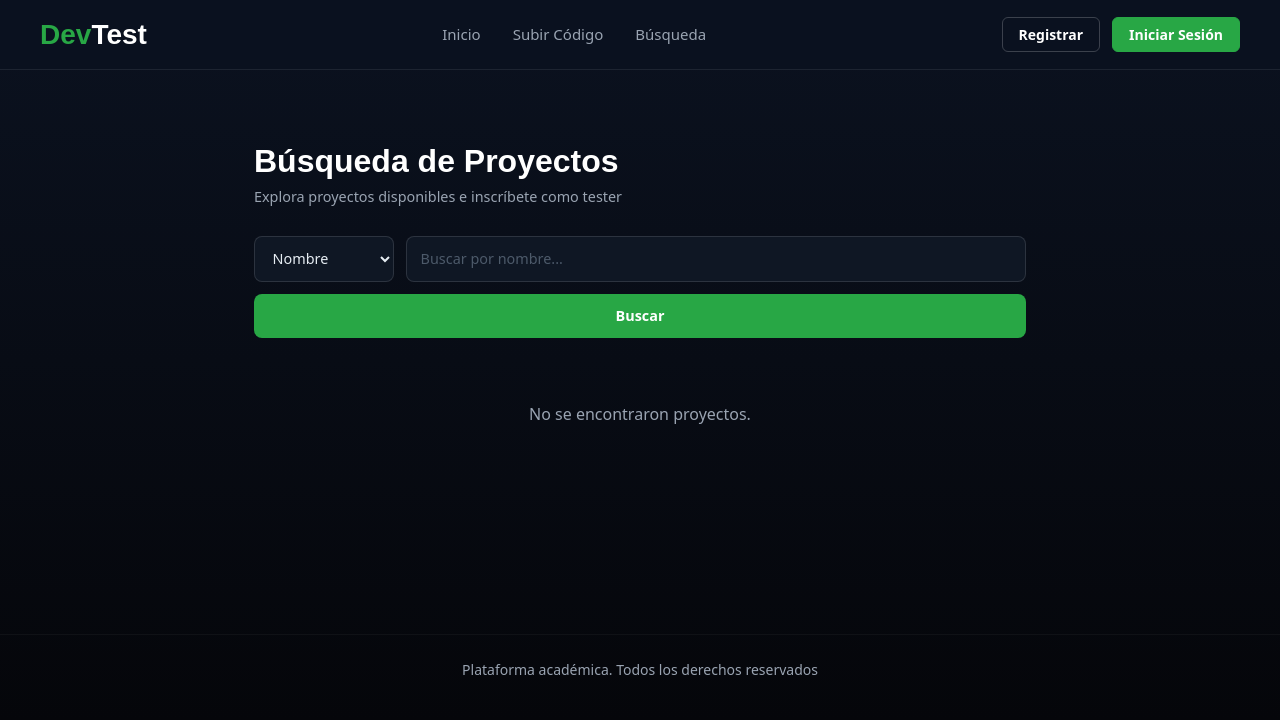
INTEGRACION: DT_10 - Consultar proyecto › FLUJO DE INTEGRACION: Busqueda a detalle › IT_CON_001 (DT_10_1): Buscar por nombre, habilitar detalles y visualizar proyecto
This screenshot has width=1280, height=720.
Select "Nombre" in the dropdown with class "busqueda-select" at [324, 259], box left=254, top=236, right=394, bottom=282
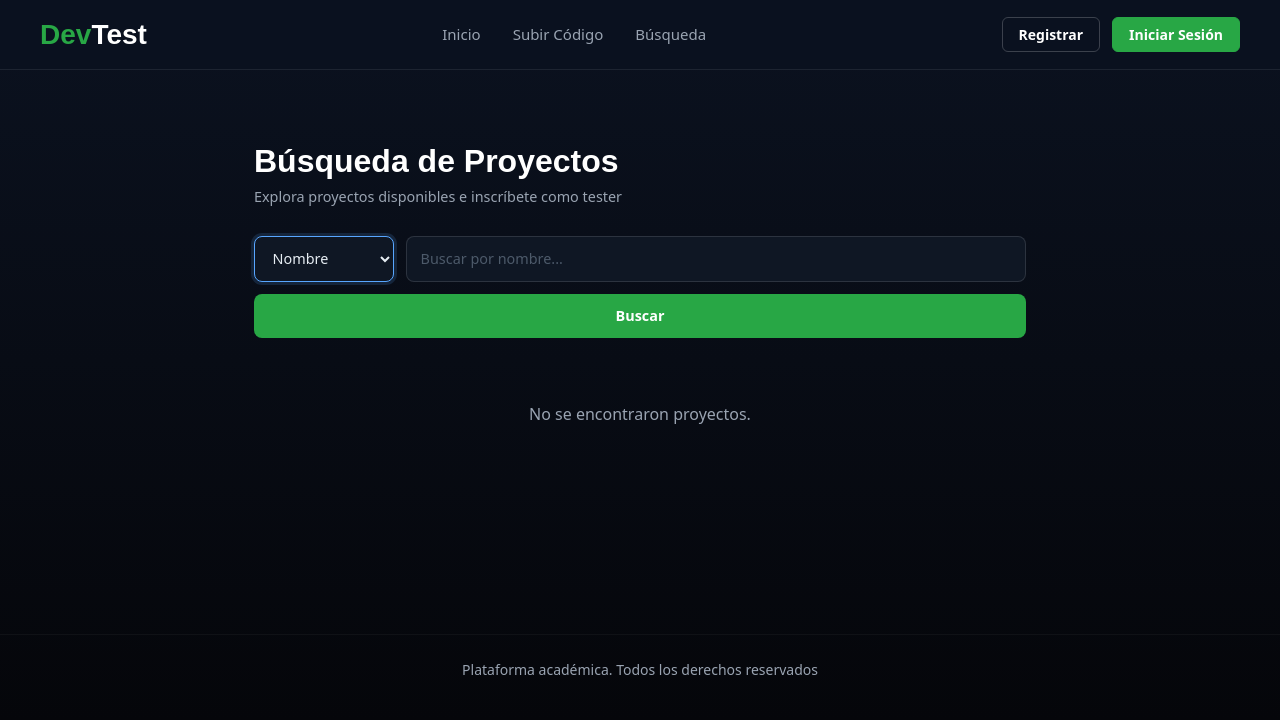
Type "Proyecto Integracion DT10" into the field with class "busqueda-input" at [716, 259], box left=406, top=236, right=1026, bottom=282
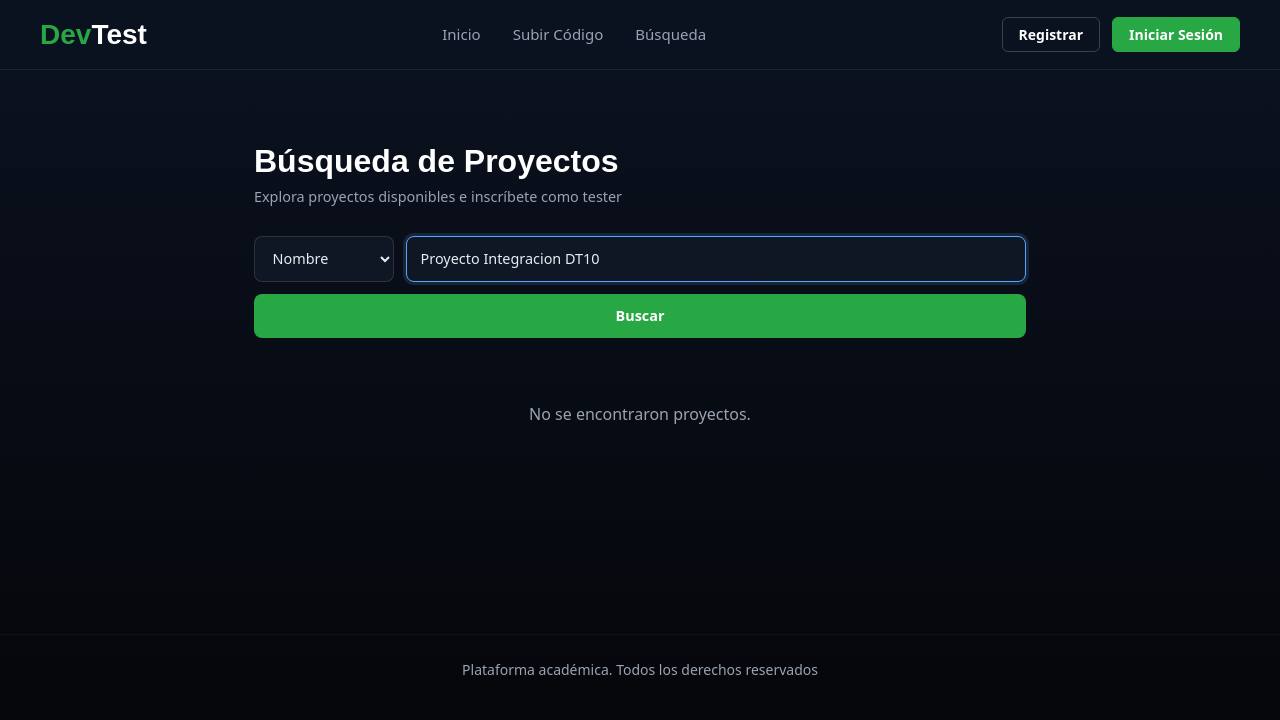
Click the button with class "busqueda-boton" at [640, 316], box left=254, top=294, right=1026, bottom=338
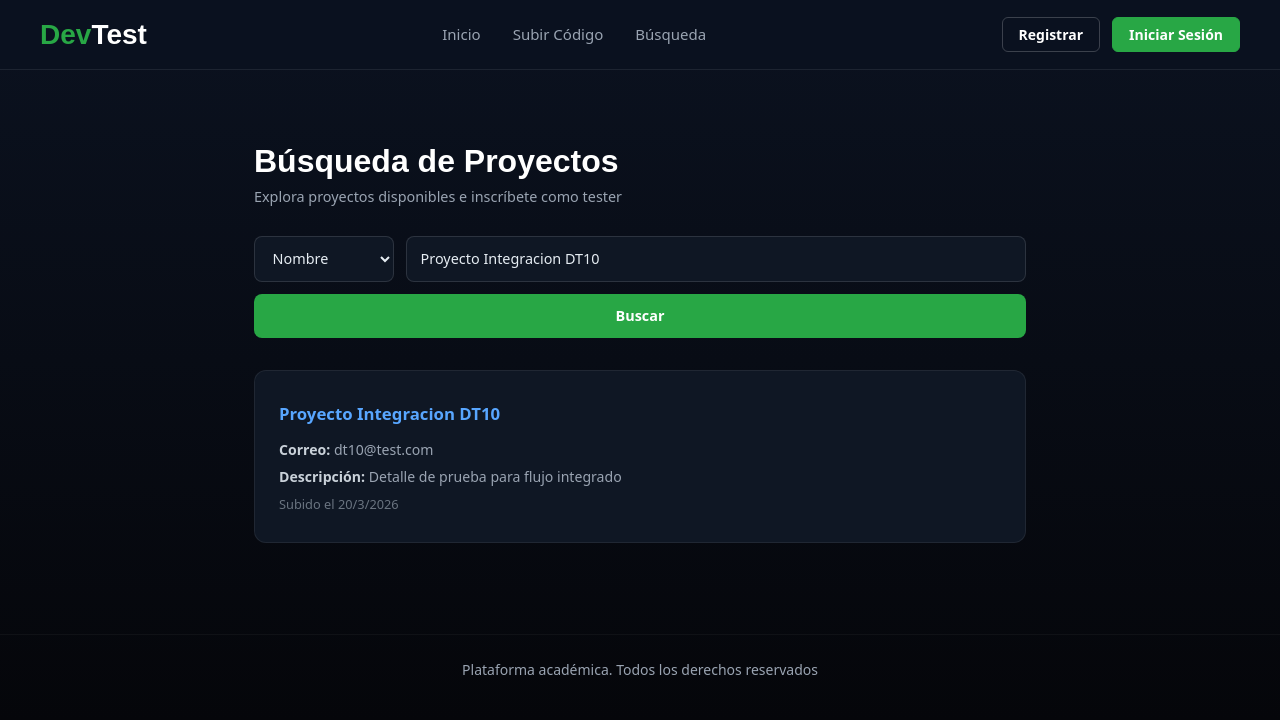
Check: the link "Proyecto Integracion DT10" is shown
Click the link "Proyecto Integracion DT10" at [390, 414], box left=279, top=402, right=500, bottom=425
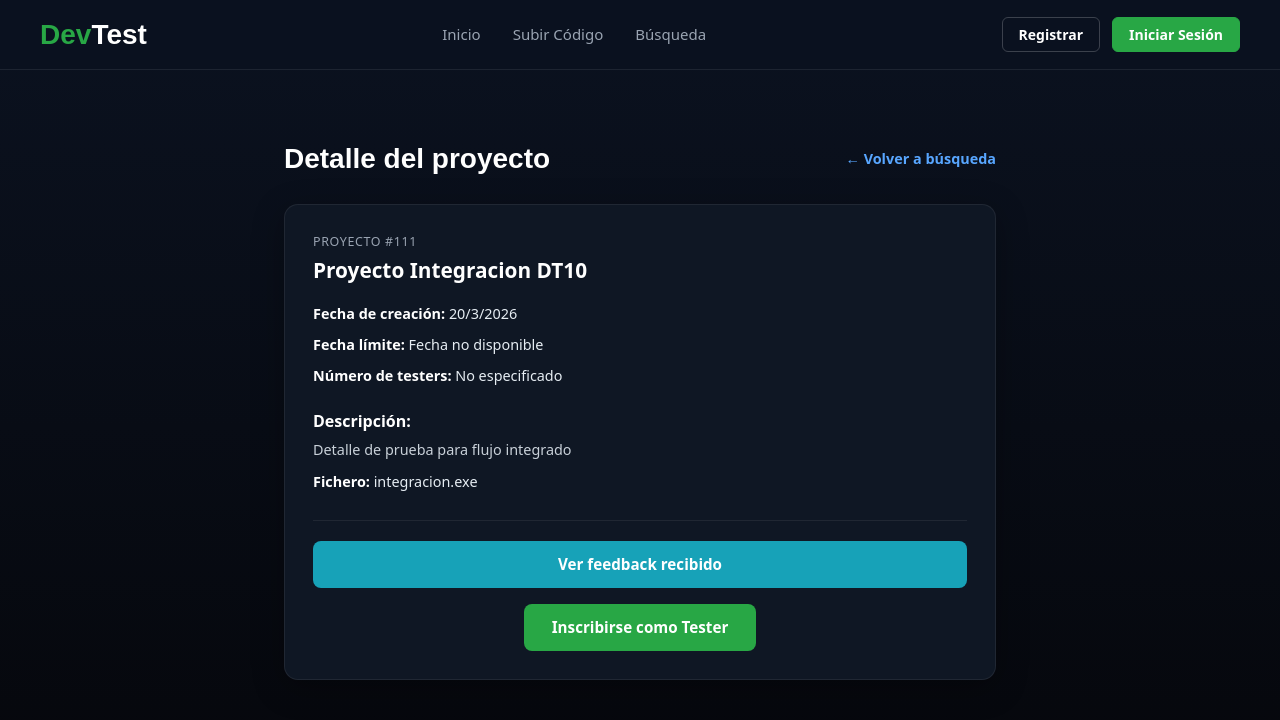
Check: the heading "Proyecto Integracion DT10" is shown, box left=313, top=256, right=587, bottom=284
Check: the text "Detalle de prueba para flujo integrado" is shown, box left=313, top=440, right=572, bottom=460
Check: the heading "Detalle del proyecto" is shown, box left=284, top=142, right=550, bottom=176
